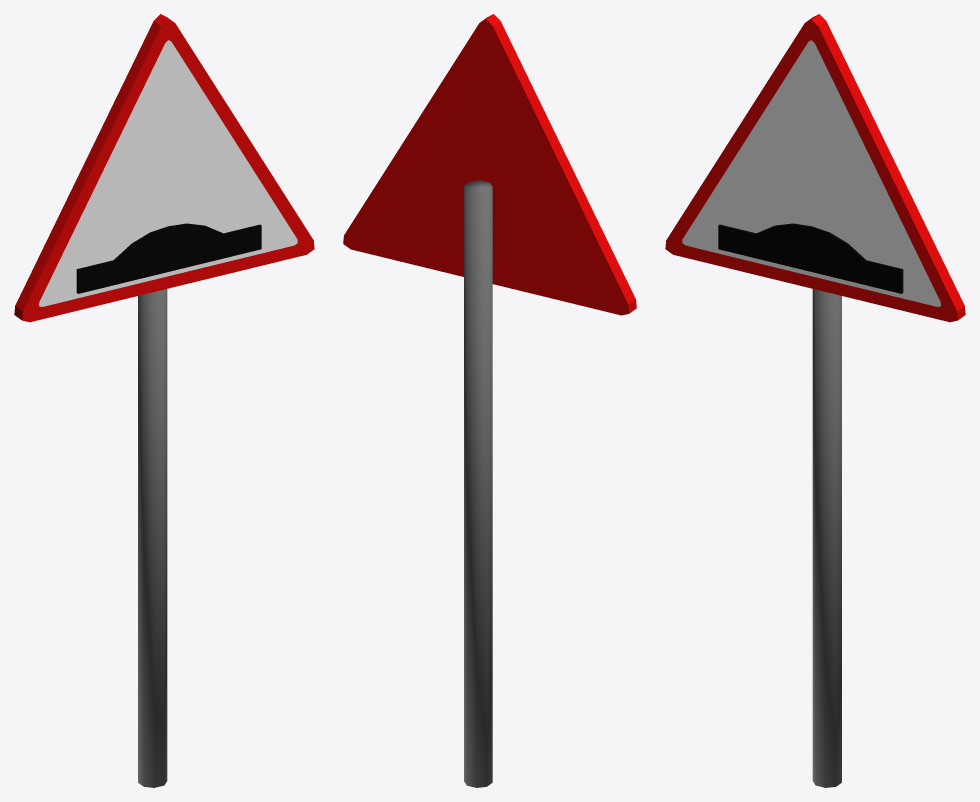
File: Prop_StreetSign_Bump.fbx
3 views of the same model, side by side, from view 1: azimuth 30°, elevation 25°; view 2: azimuth 150°, elevation 25°; view 3: azimuth 330°, elevation 25° (orthographic). The views are drawn at different scales.
Visible parts, largest first — view 1: Prop_StreetSign_Bump; view 2: Prop_StreetSign_Bump; view 3: Prop_StreetSign_Bump.
Boxes of the visible parts, bbox=[...] form: Prop_StreetSign_Bump: bbox=[14, 14, 314, 787]; Prop_StreetSign_Bump: bbox=[343, 14, 636, 787]; Prop_StreetSign_Bump: bbox=[665, 14, 965, 787].
Bounding box in the file's own units: 166 × 420 × 23.86.
